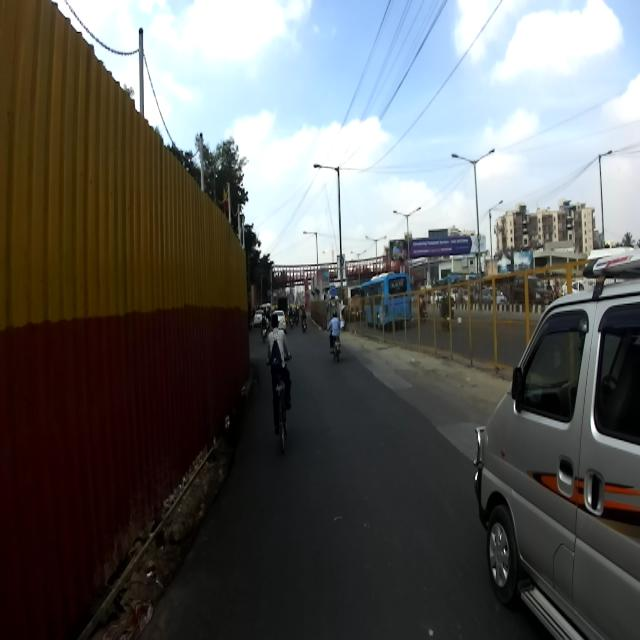bicycle ahead at: (265, 369, 293, 454)
car ahead at: (470, 242, 640, 640)
